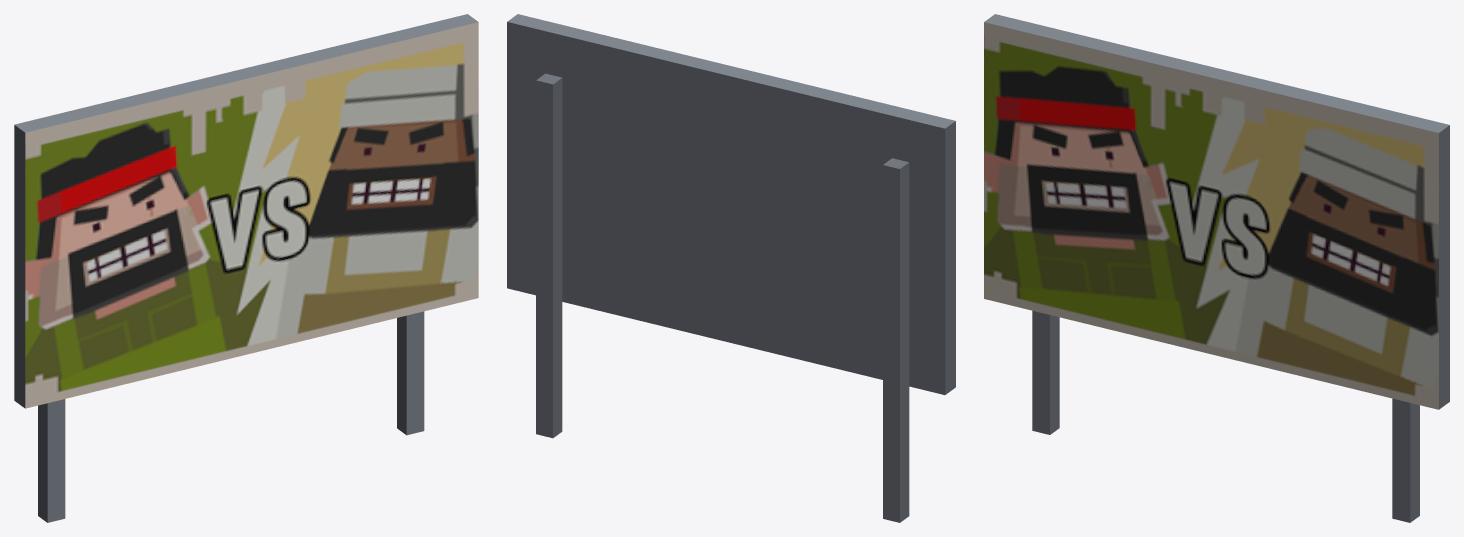
Rendered from SM_Billboard_Stand_01.fbx.
3 views of the same model, side by side, from view 1: azimuth 30°, elevation 25°; view 2: azimuth 150°, elevation 25°; view 3: azimuth 330°, elevation 25° (orthographic). The views are drawn at different scales.
Visible parts, largest first — view 1: SM_Billboard_Stand_01; view 2: SM_Billboard_Stand_01; view 3: SM_Billboard_Stand_01.
Part boxes in pixels (bbox=[...]): SM_Billboard_Stand_01: bbox=[14, 14, 478, 522]; SM_Billboard_Stand_01: bbox=[507, 14, 955, 522]; SM_Billboard_Stand_01: bbox=[984, 14, 1449, 522].
Size of the model in its own units: 5.05 by 4.35 by 0.4363.
